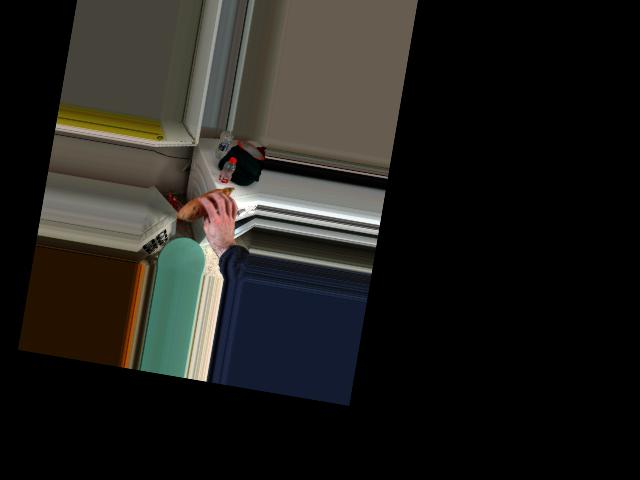sweet_potato: (180, 181, 238, 227)
